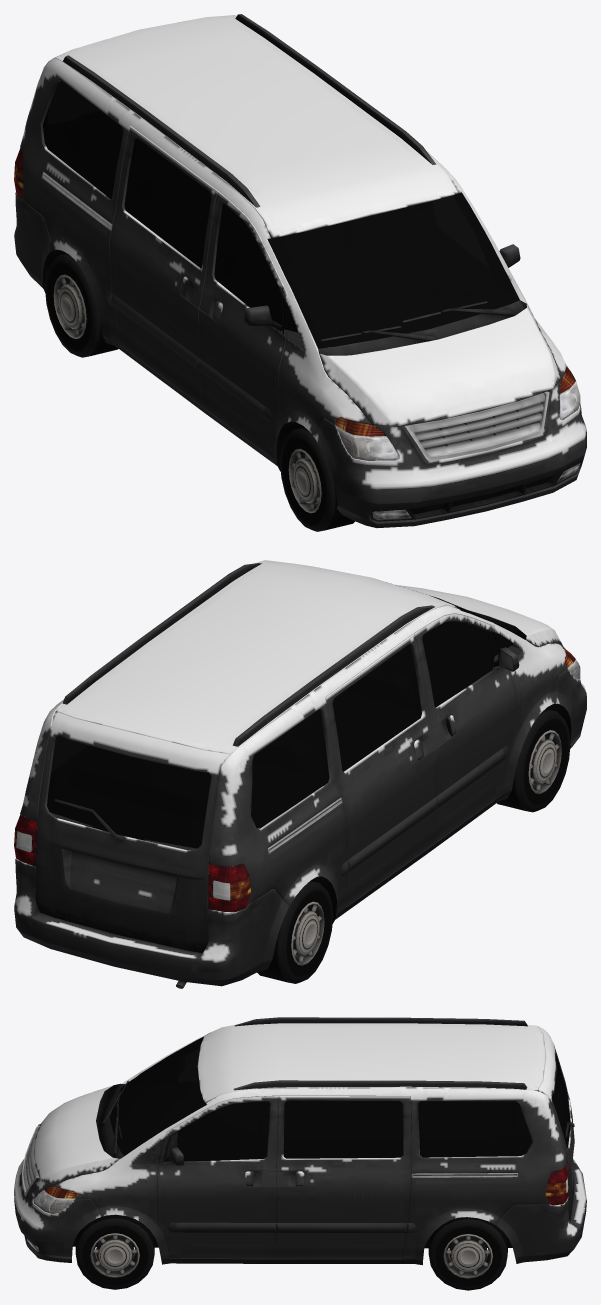
The model's file is cmp_minivan.glb.
3 views of the same model, one above another, from view 1: azimuth 30°, elevation 25°; view 2: azimuth 150°, elevation 25°; view 3: azimuth 270°, elevation 25° (orthographic). The views are drawn at different scales.
Visible parts, largest first — view 1: minivan body, Wheel_D002, Wheel_D003; view 2: minivan body, Wheel_D003, Wheel_D002; view 3: minivan body, Wheel_D, Wheel_D001.
Part boxes in pixels (x1,y1,x2,y2): minivan body: (14,14,586,528); Wheel_D002: (280,427,354,531); Wheel_D003: (45,253,118,357); minivan body: (14,560,586,988); Wheel_D003: (257,880,333,983); Wheel_D002: (497,708,570,812); minivan body: (14,1017,586,1265); Wheel_D: (75,1214,154,1289); Wheel_D001: (428,1217,507,1290).
Size of the model in its own units: 1.87 by 1.76 by 4.61.
Materials: 4 (3 with a texture image).
